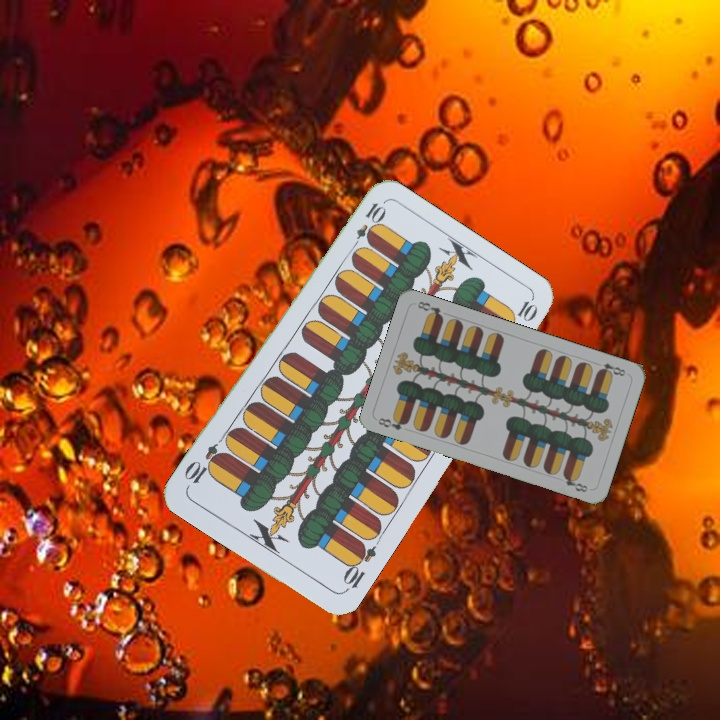E10: (338, 538, 379, 595), (347, 198, 387, 254)
E8: (591, 358, 628, 379), (374, 413, 411, 433)
